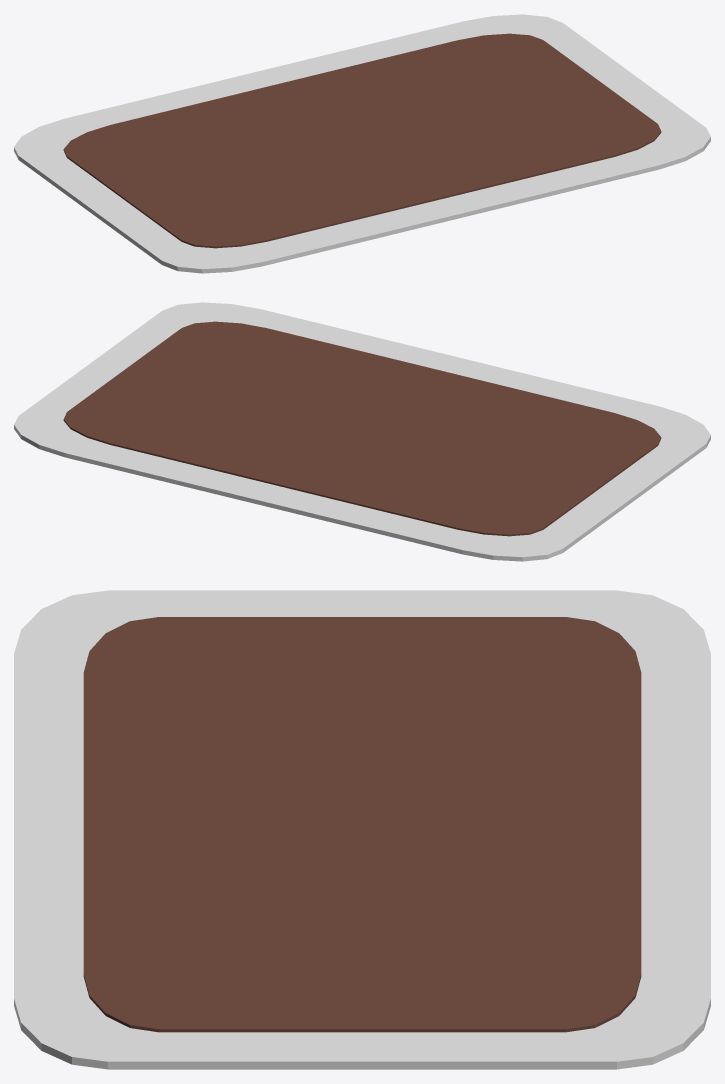
The model's file is FarmGroundSoil.fbx.
3 renders of one model, top to bottom at view 1: azimuth 30°, elevation 25°; view 2: azimuth 150°, elevation 25°; view 3: azimuth 270°, elevation 25°, orthographic. The views are drawn at different scales.
Visible parts, largest first — view 1: Soil01; view 2: Soil01; view 3: Soil01.
Part boxes in pixels (<box>): Soil01: <box>14,14,710,273</box>; Soil01: <box>14,302,710,561</box>; Soil01: <box>14,590,710,1069</box>.
Size of the model in its own units: 800 by 8.47 by 500.
